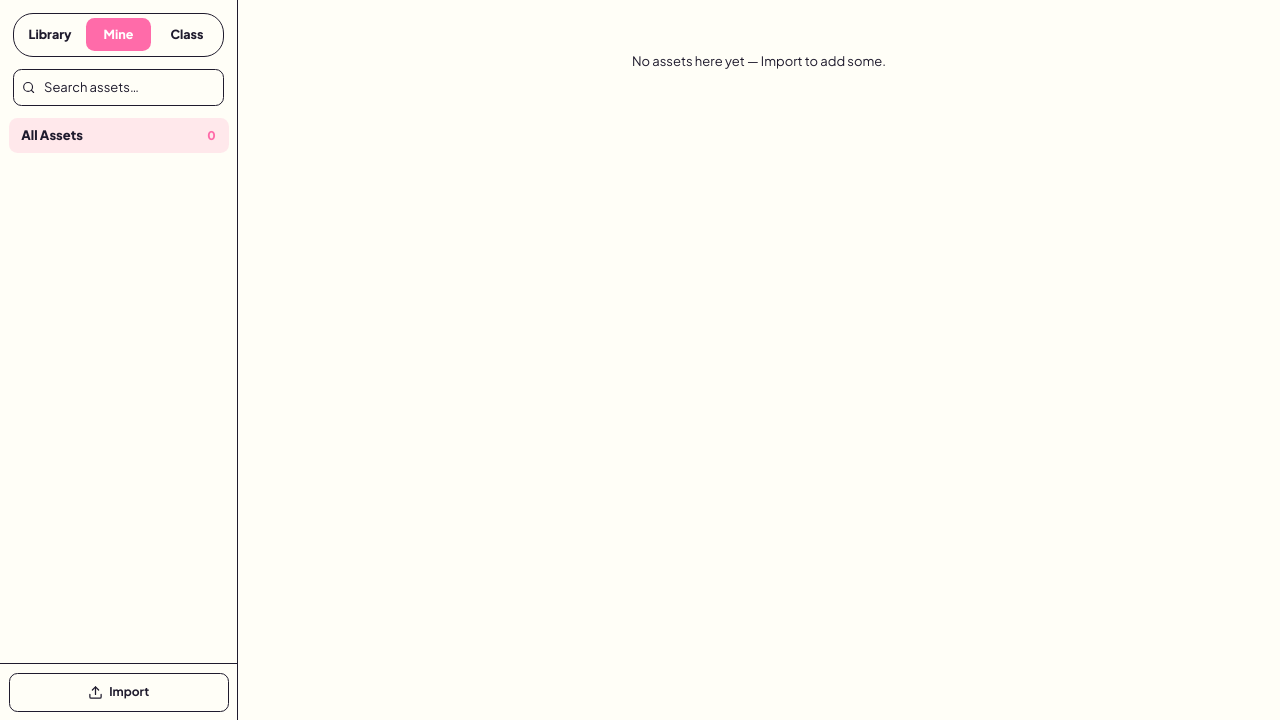
AssetViewerPane — Class tab gating (class-shared-assets-prd) › shows the course-library source in the detail view for a course default
Click the button with test id "asset-source-class" at (187, 35), box x1=155 y1=18 x2=219 y2=51
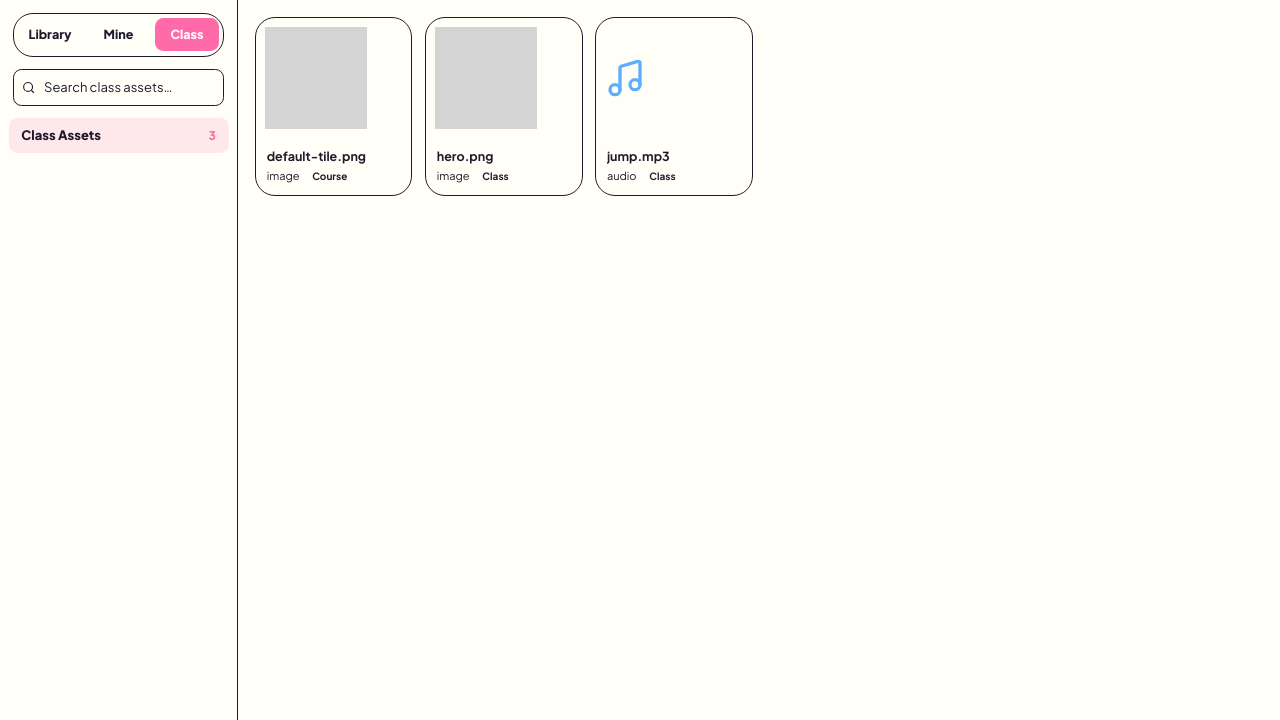
Click the button with test id "class-asset-card" showing "default-tile.png image Course" at (334, 107), box x1=255 y1=17 x2=412 y2=196
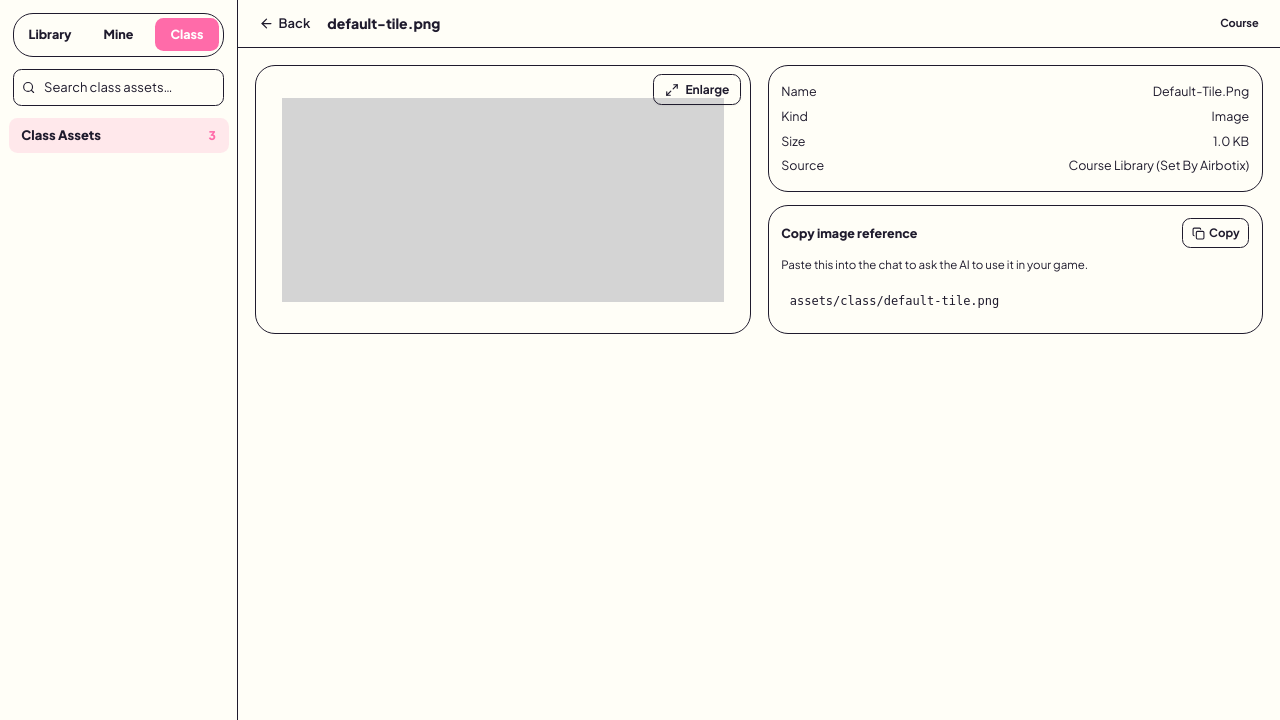
Expected: the text "Course library (set by Airbotix)" is shown, x1=1068 y1=155 x2=1249 y2=176
